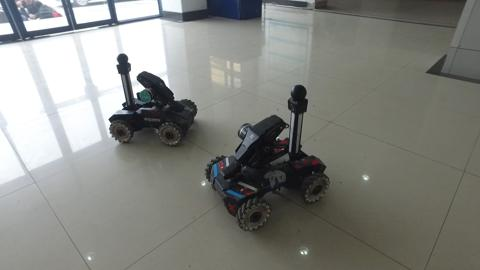chariot: (199, 82, 338, 232), (105, 51, 199, 149)
